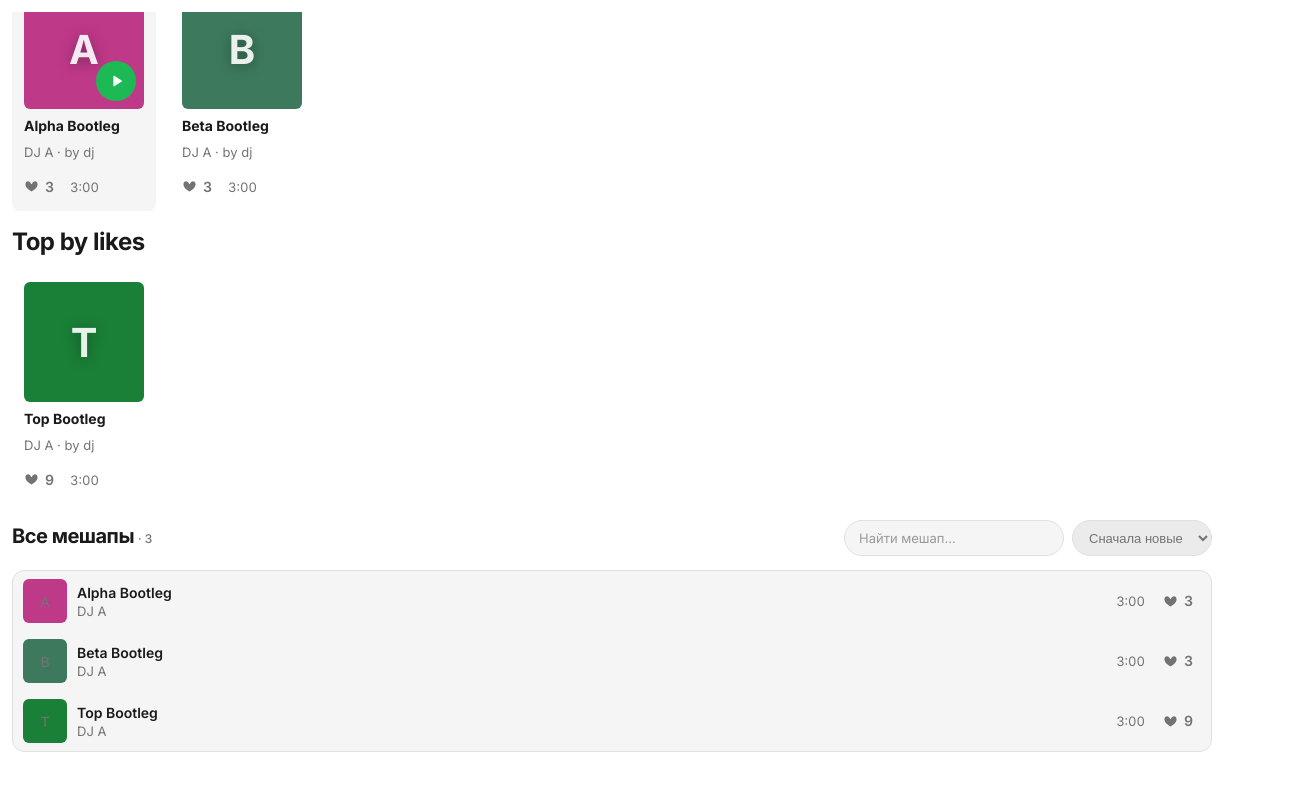
it: Mashups page › filters the All section by search without touching shelves
(page scrolled)
Expected: the number of buttons "A" is 3, left=23, top=579, right=67, bottom=623; left=23, top=639, right=67, bottom=683; left=23, top=699, right=67, bottom=743
Type "top" into the field labelled "Найти мешап".
click(954, 538); type("top")  # box left=844, top=520, right=1064, bottom=556
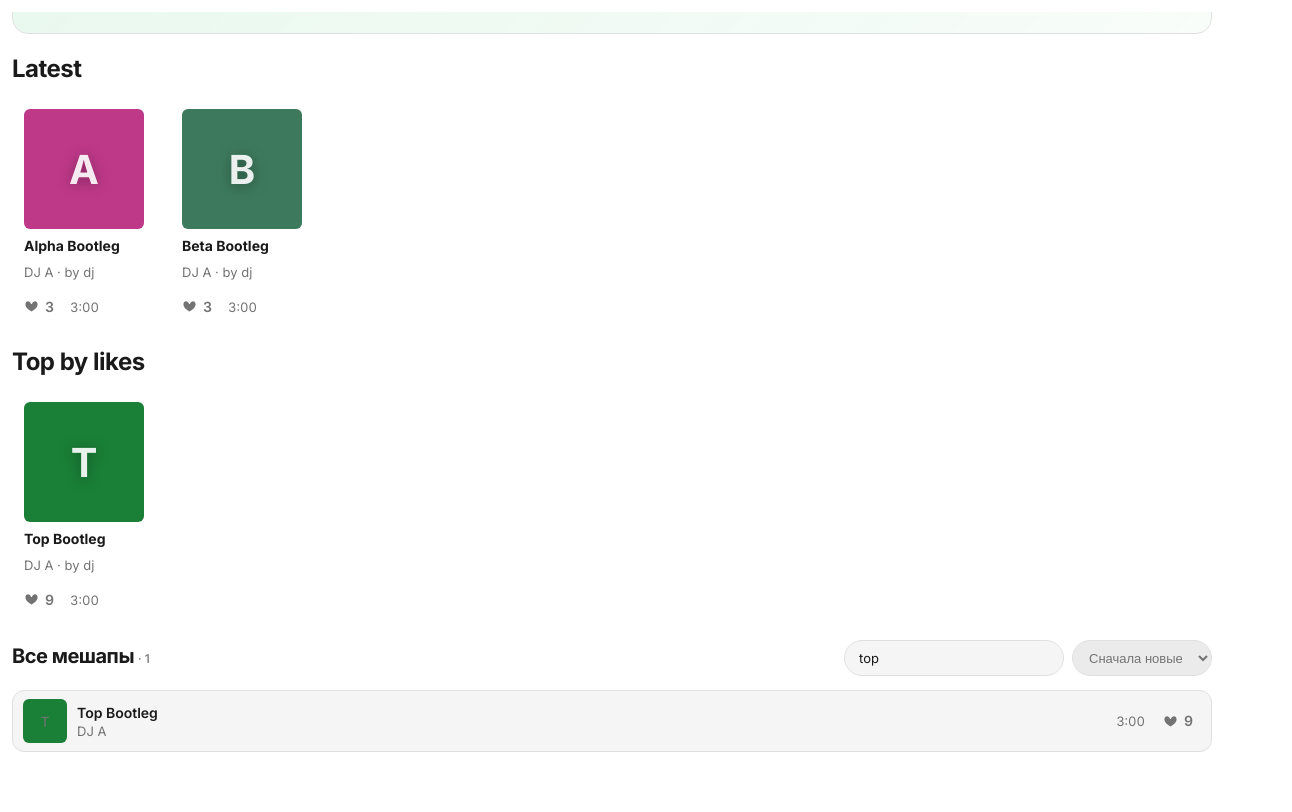
Expected: the number of buttons "T" is 1, left=23, top=699, right=67, bottom=743
Now the heading "Latest" is shown, box left=12, top=54, right=82, bottom=83
Now the heading "Все мешапы· 1" is shown, box left=12, top=644, right=150, bottom=668
